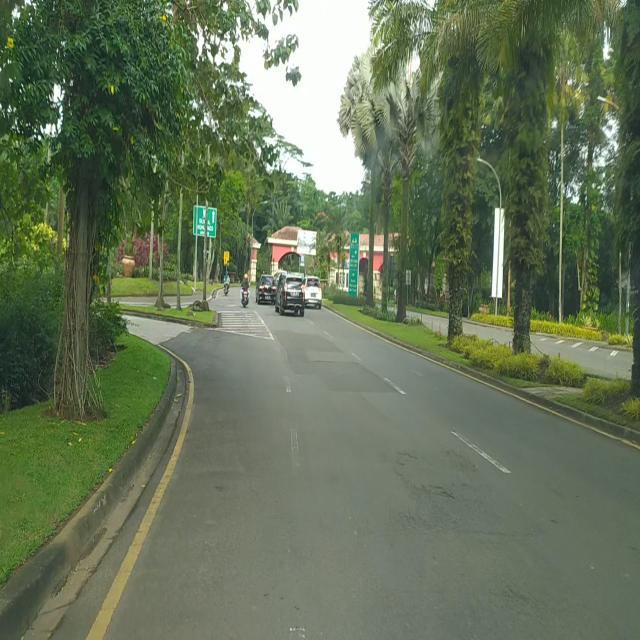Drain Hole: (374, 446, 484, 533)
